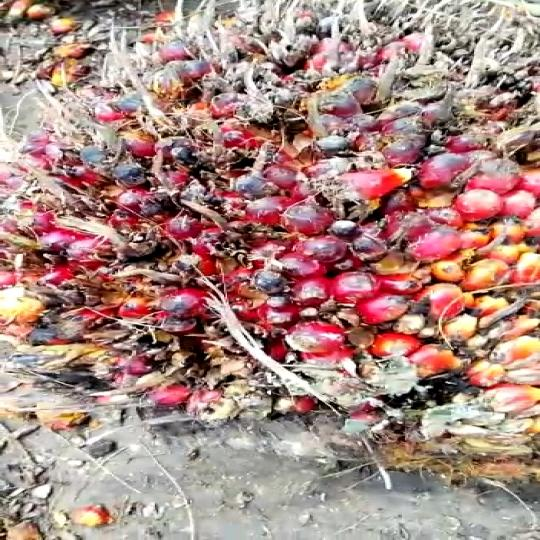masak: (0, 0, 540, 473)
